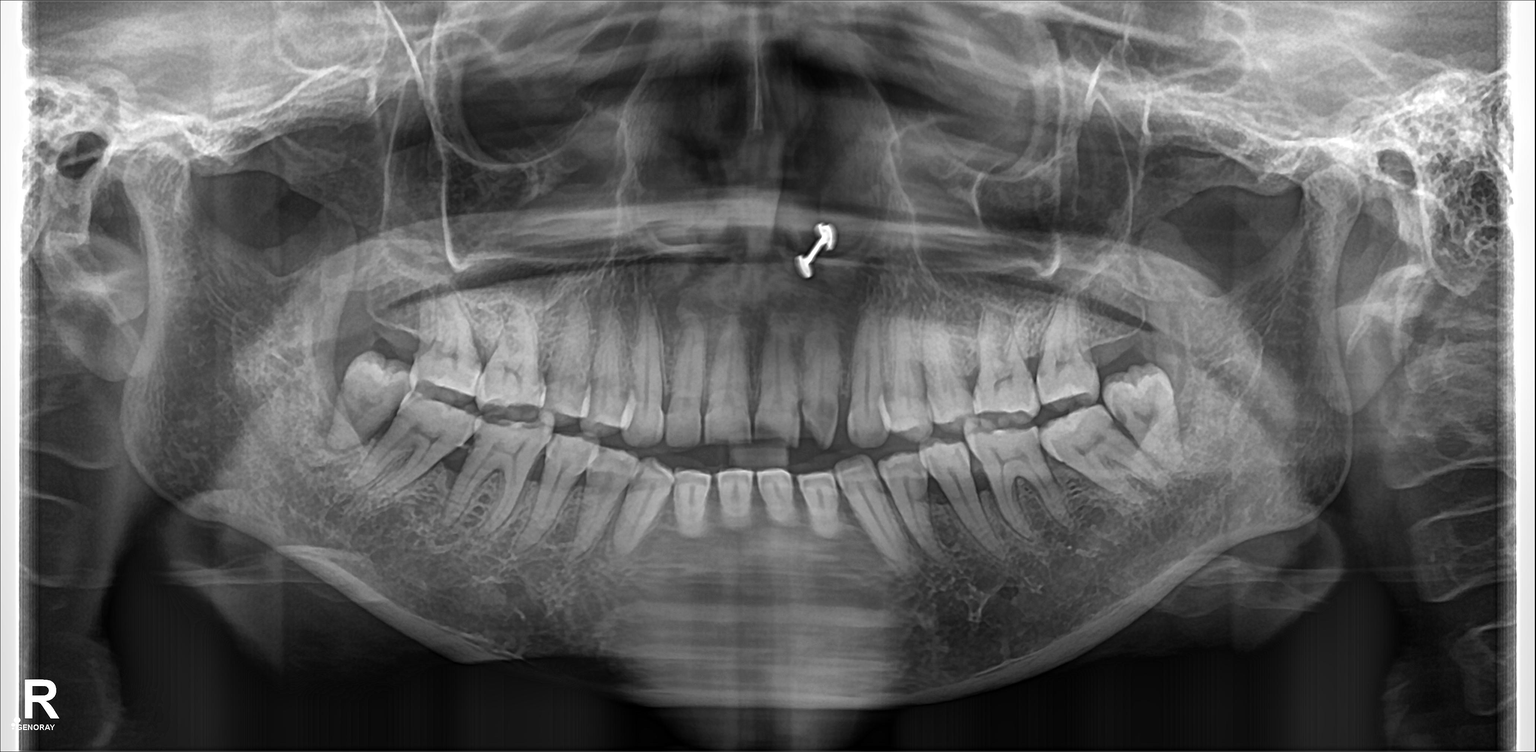Missing Tooth: (1089, 307, 1152, 368), (372, 277, 419, 356)
